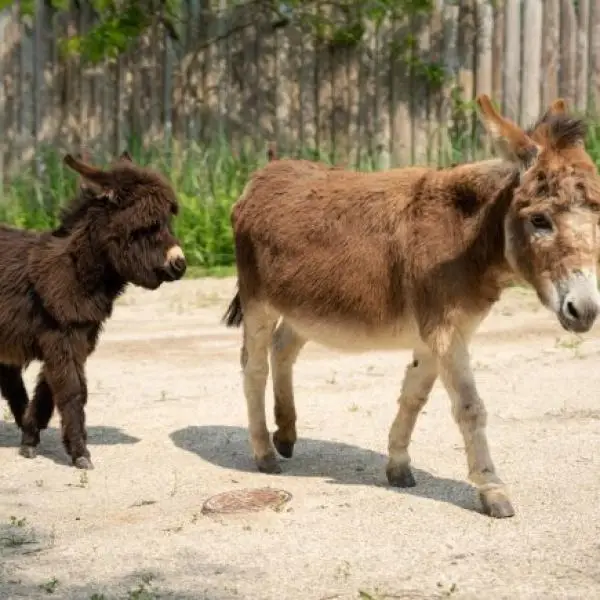donkey: (227, 110, 600, 503)
